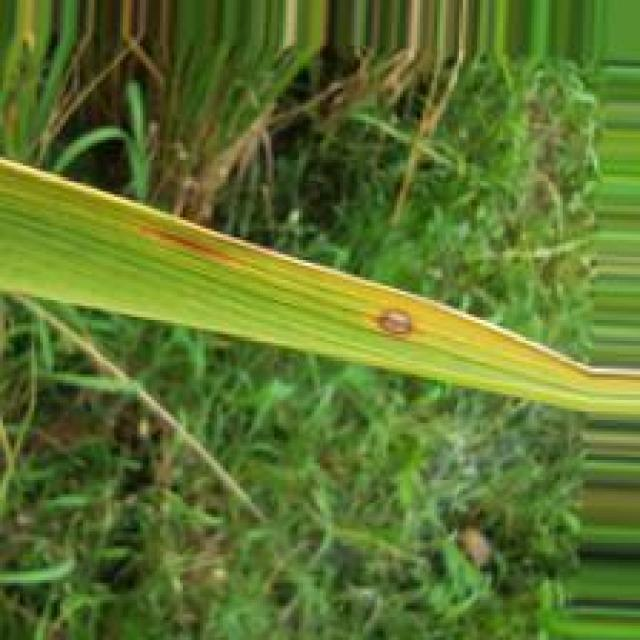Brown_Spot: (130, 217, 242, 271), (365, 305, 416, 344)
